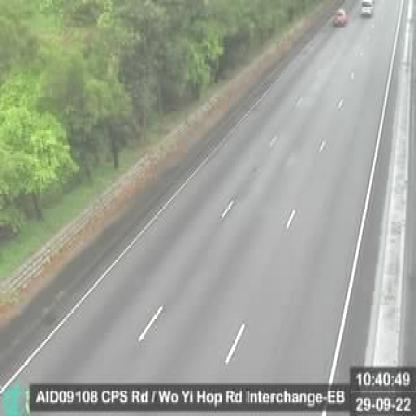Car: (329, 7, 347, 31), (358, 0, 375, 17)
